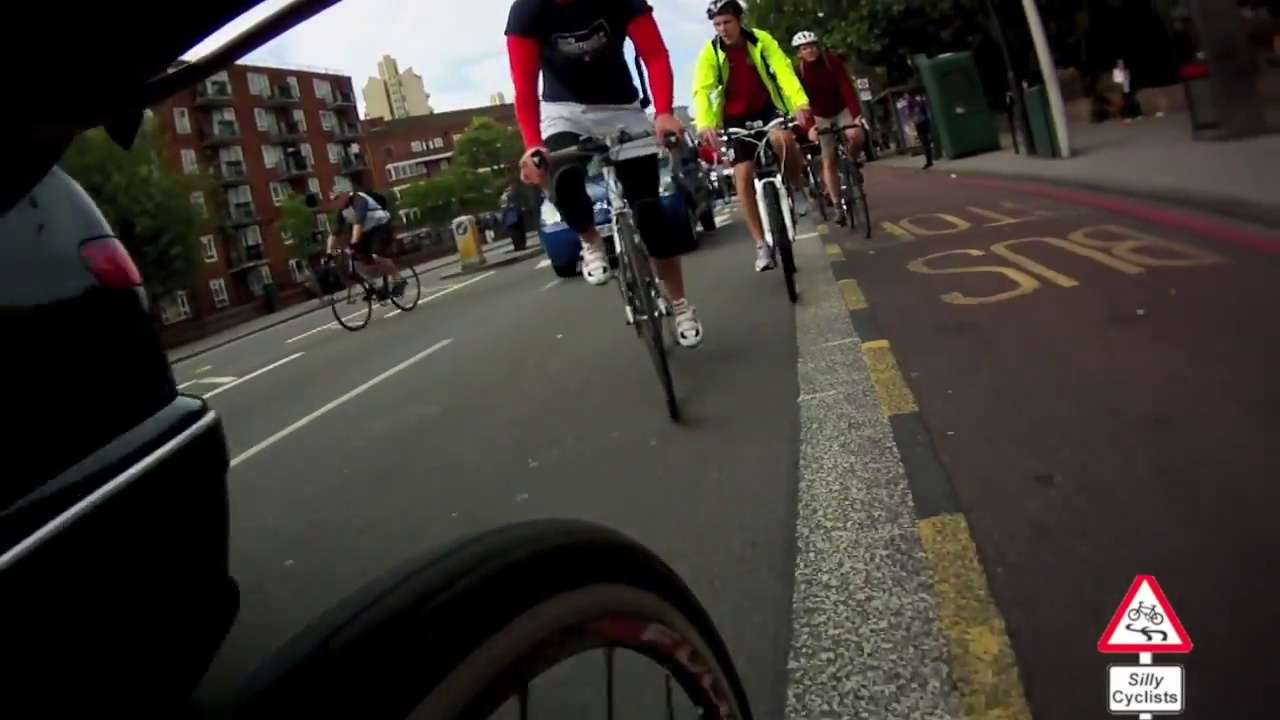cyclist_front: (686, 7, 816, 315), (785, 20, 887, 244)
